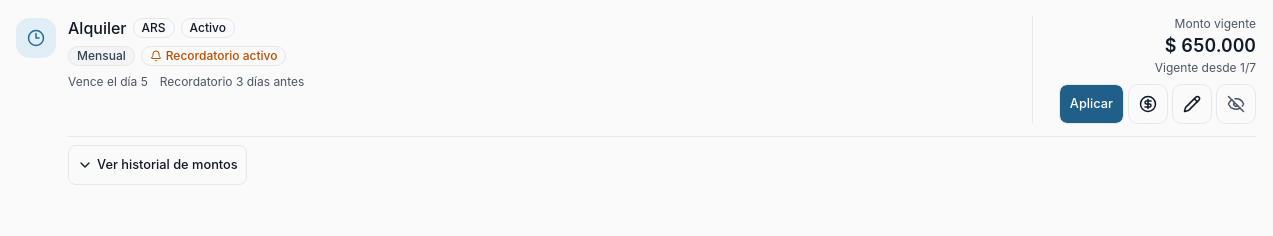
Test: CommitmentRow › muestra el monto vigente, su fecha y el historial colapsable
This screenshot has width=1273, height=236.
Expected: the text "Monto vigente" is shown, x1=1175 y1=16 x2=1256 y2=31
Expected: the text "$ 650.000" is shown, x1=1165 y1=35 x2=1256 y2=56
Click the button "Ver historial de montos": (157, 165) x1=68 y1=145 x2=247 y2=185
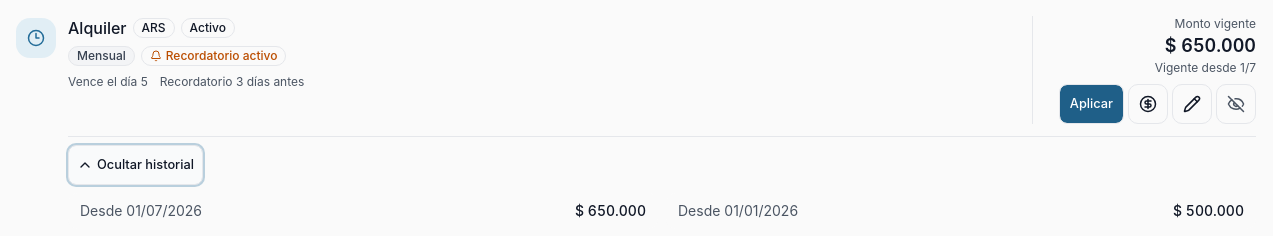
Expected: the text "$ 500.000" is shown, x1=1173 y1=202 x2=1244 y2=219
Expected: the button "Ocultar historial" is expanded, x1=68 y1=145 x2=203 y2=185
